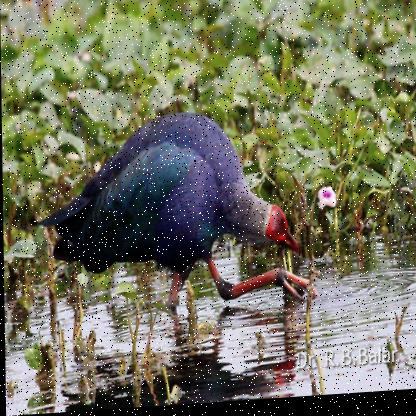Burung: (38, 104, 315, 342)
